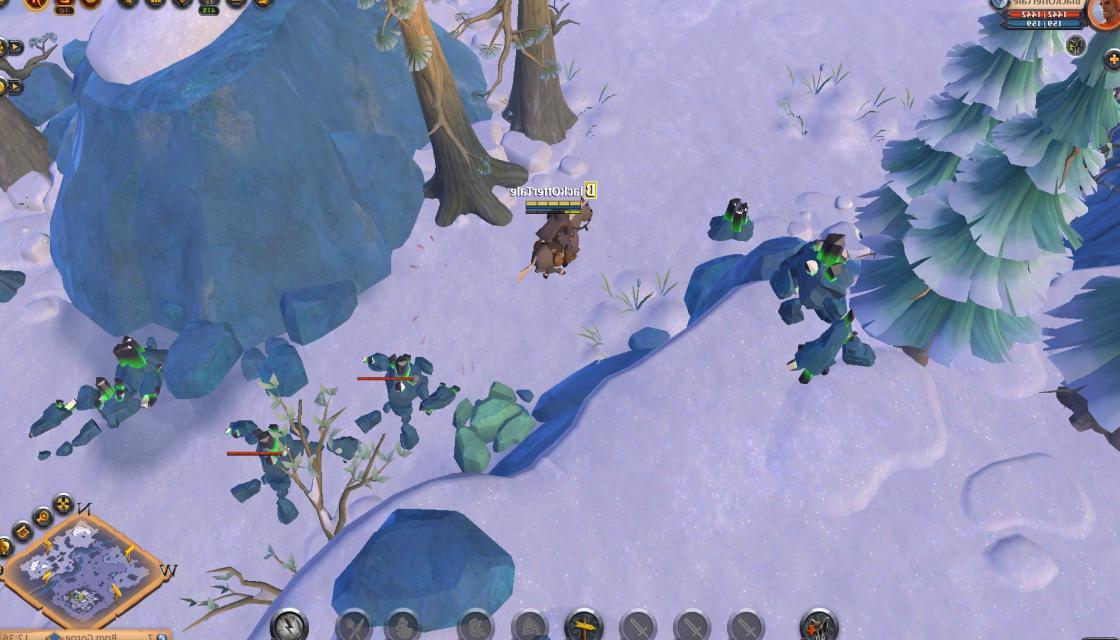sandstone: (450, 372, 542, 472)
tinore: (85, 321, 163, 428), (706, 192, 755, 245), (0, 252, 19, 310)
